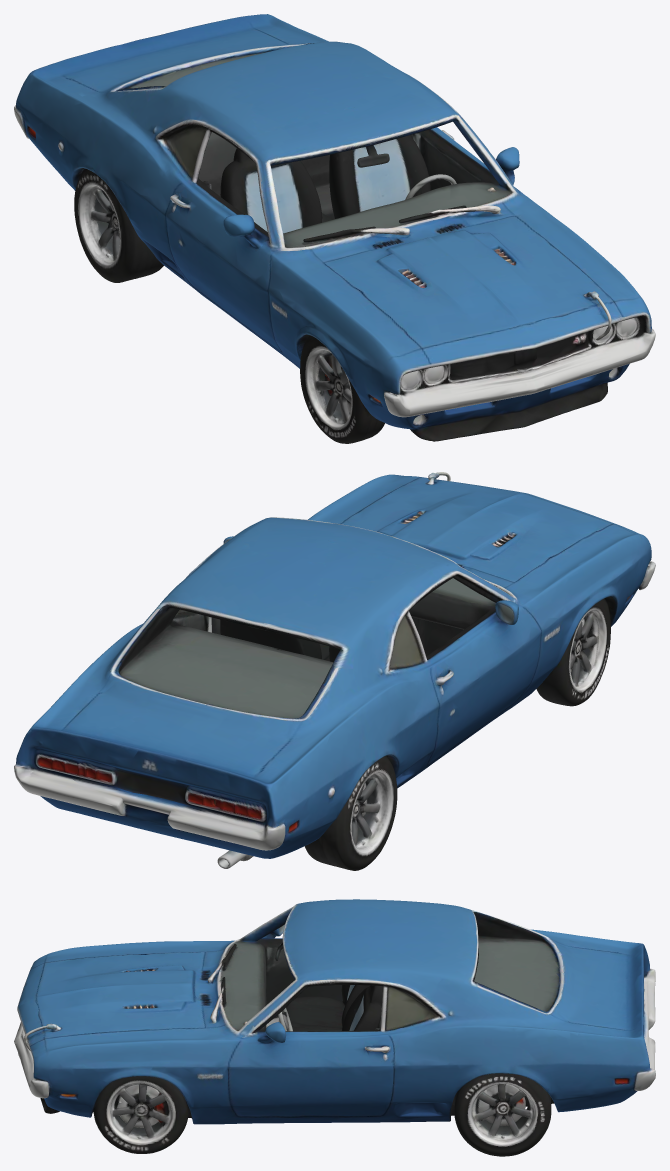
File: 078_restomod_blue.glb
3 renders of one model, top to bottom at view 1: azimuth 30°, elevation 25°; view 2: azimuth 150°, elevation 25°; view 3: azimuth 270°, elevation 25°, orthographic. The views are drawn at different scales.
Visible parts, largest first — view 1: geometry_0; view 2: geometry_0; view 3: geometry_0.
Boxes of the visible parts, box(x1,y1,x2,y2) form: geometry_0: box(14, 14, 655, 443); geometry_0: box(14, 472, 655, 870); geometry_0: box(14, 899, 655, 1156).
Size of the model in its own units: 2.23 by 1.56 by 5.2.
Materials: 1 (1 with a texture image).
